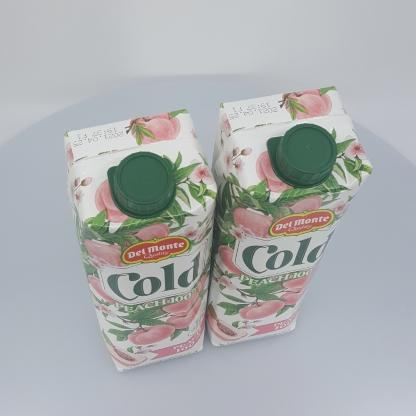-------------100_: (202, 86, 372, 346), (64, 109, 217, 372)
